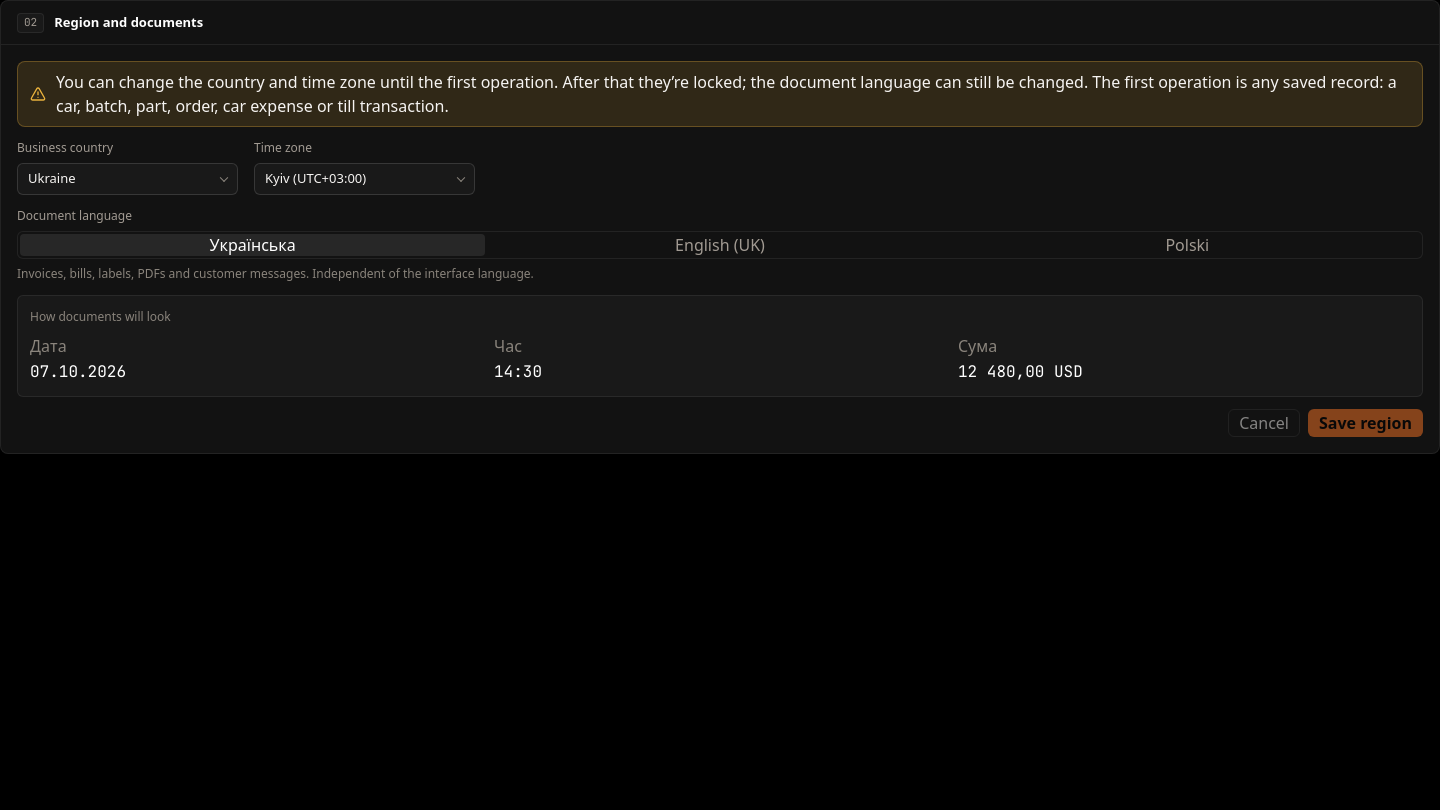
Test: locks the block when the first operation wins the race
Select "United Kingdom" in the dropdown labelled "Business country" at (128, 179), box x1=17 y1=163 x2=238 y2=195
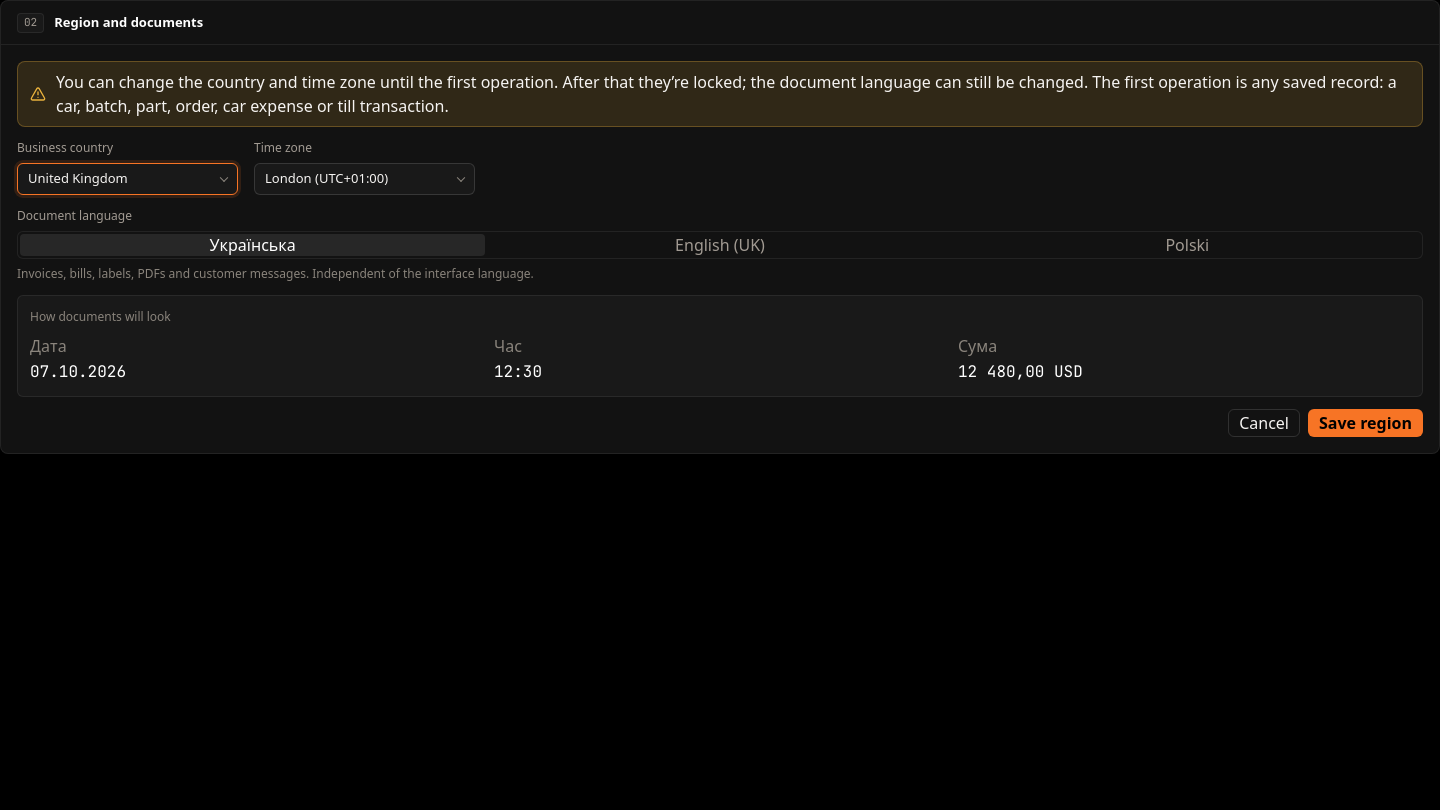
Click the button "Save region" at (1366, 423), box x1=1308 y1=409 x2=1423 y2=437
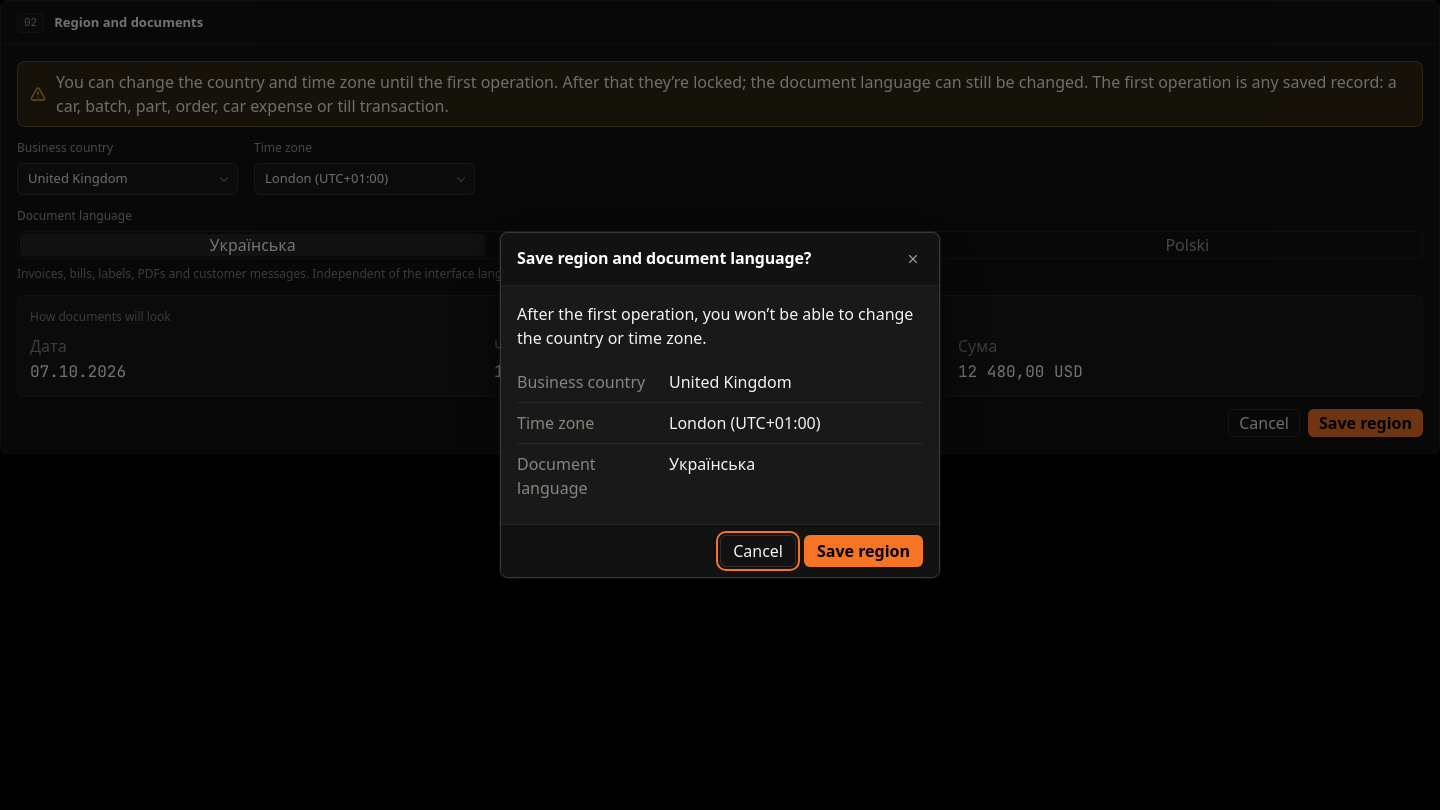
Click the button "Save region" at (864, 551), box x1=804 y1=535 x2=923 y2=567
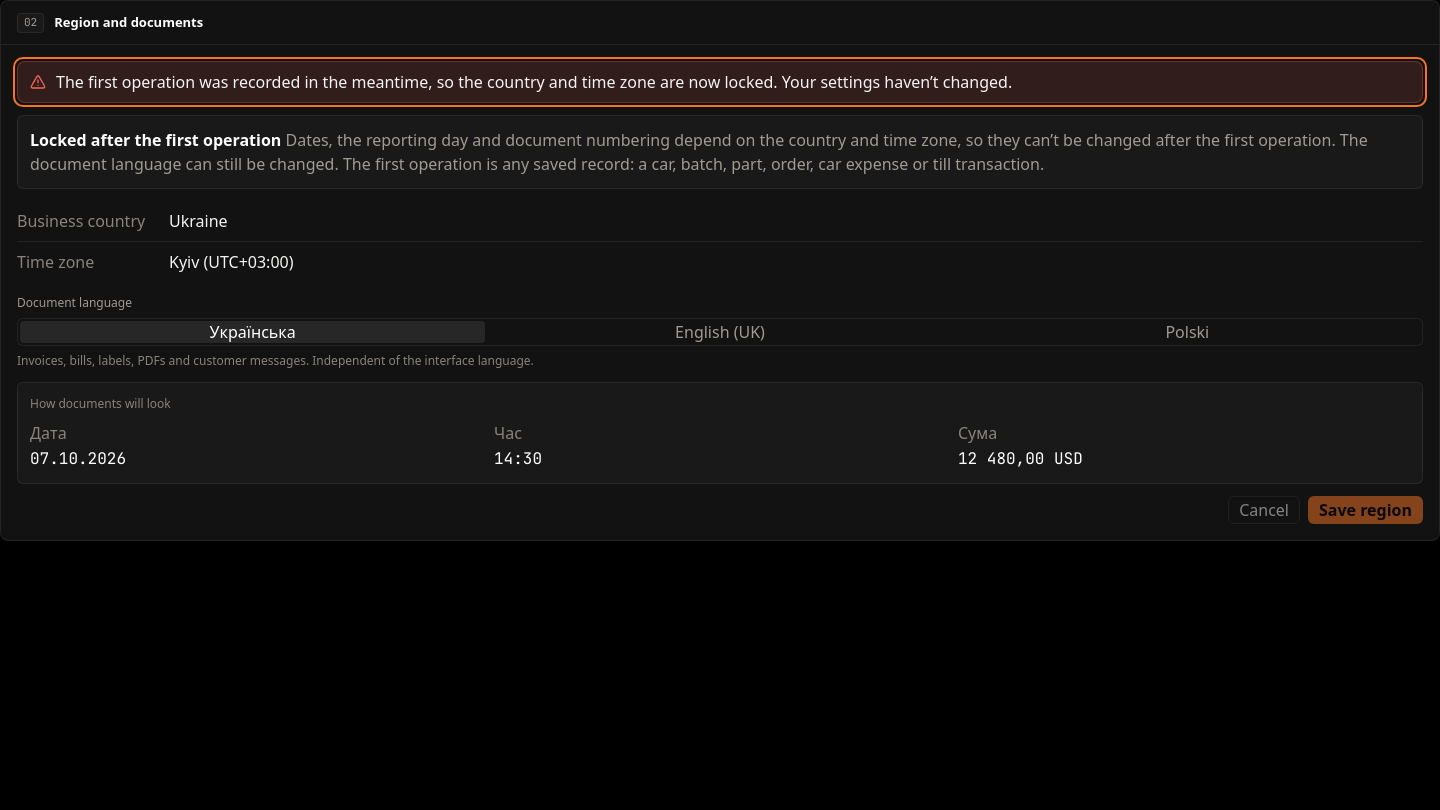
Expected: the message shows "The first operation was recorded in the meantime", x1=56 y1=71 x2=1012 y2=93
Expected: the text "Locked after the first operation" is shown, x1=30 y1=129 x2=281 y2=151
